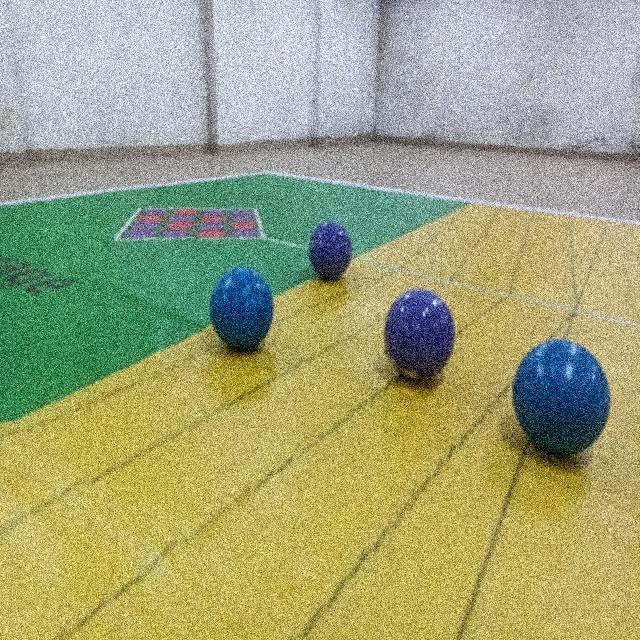blue_ball: (512, 334, 612, 463), (209, 266, 275, 351)
purple_ball: (381, 282, 457, 387), (308, 218, 355, 282)
